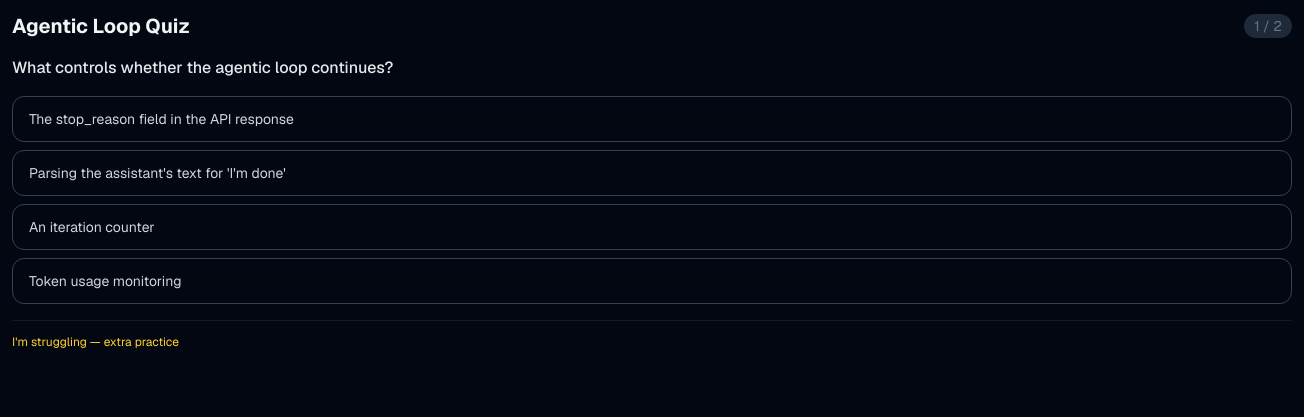
Test: QuizCard › shows Next Question button after selecting an answer
Click the button "The stop_reason field in the API response" at (161, 119), box [12, 96, 1292, 142]
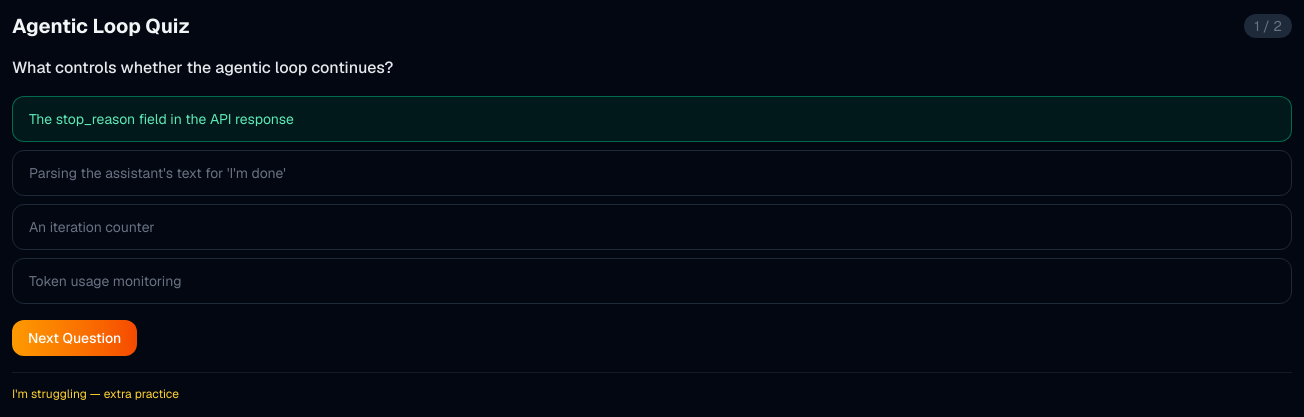
Now the button "Next Question" is shown, box [12, 320, 137, 356]
